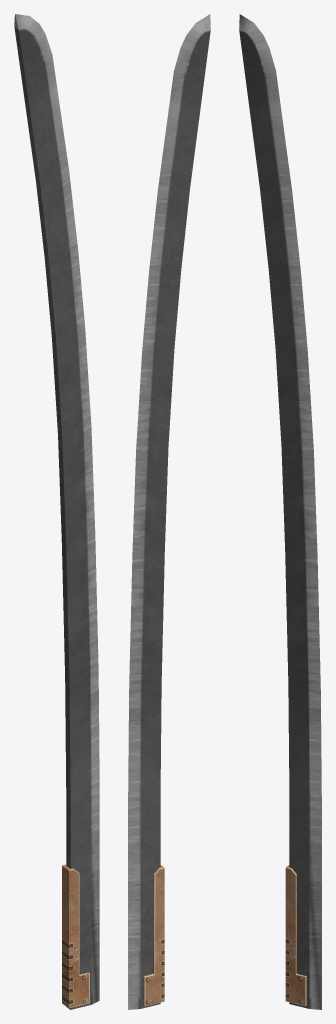
The model's file is vibro_sword2b_blade.fbx.
3 views of the same model, side by side, from view 1: azimuth 30°, elevation 25°; view 2: azimuth 210°, elevation 25°; view 3: azimuth 330°, elevation 25° (orthographic). The views are drawn at different scales.
Visible parts, largest first — view 1: vibro_sword2b_blade; view 2: vibro_sword2b_blade; view 3: vibro_sword2b_blade.
Part boxes in pixels (x1,y1,x2,y2): vibro_sword2b_blade: (14, 14, 99, 1009); vibro_sword2b_blade: (128, 14, 210, 1009); vibro_sword2b_blade: (239, 14, 321, 1009).
Bounding box in the file's own units: 10.28 × 117 × 1.48.
1 material, 1 textured.
